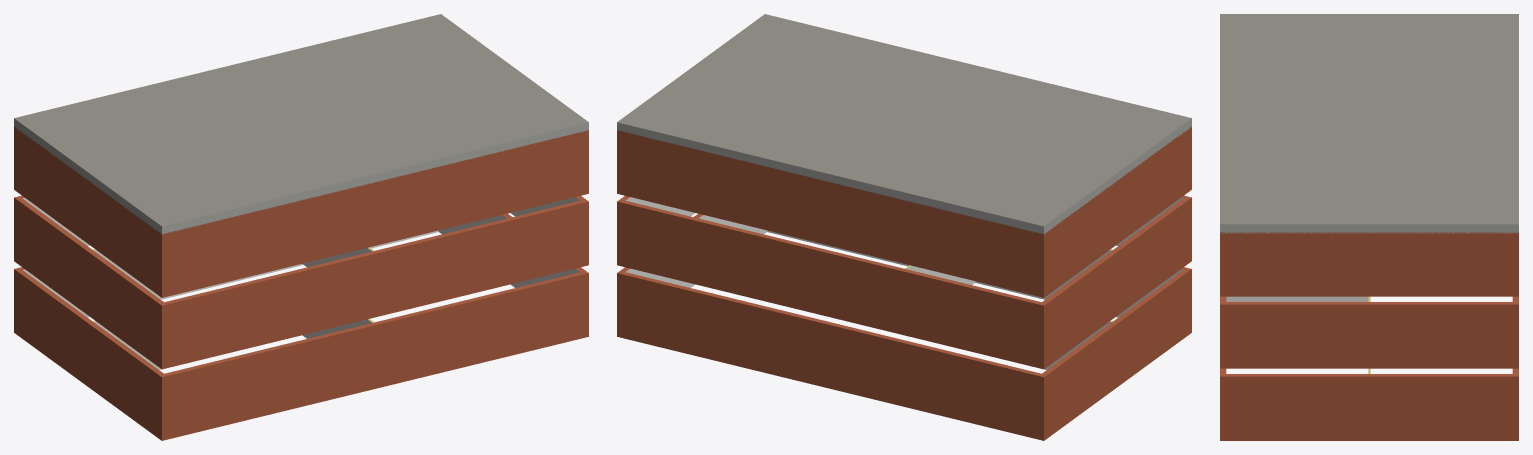
The model's file is Ejemplo_ARQ.dae.
3 renders of one model, left to right at view 1: azimuth 30°, elevation 25°; view 2: azimuth 150°, elevation 25°; view 3: azimuth 270°, elevation 25°, orthographic.
Visible parts, largest first — view 1: 310315, 310014, 310105, 310196, 310028, 310119, 310210, 310021, 310035; view 2: 310315, 310021, 310112, 310203, 310119, 310028, 310210, 310035, 310014; view 3: 310315, 310035, 310126, 310217, 310049, 310105, 310112, 310021, 310014, 310196, 310203.
Boxes of the visible parts, x1,y1,x2,y2 form: 310315: (14, 14, 588, 234); 310014: (159, 271, 588, 440); 310105: (159, 200, 588, 369); 310196: (159, 130, 588, 297); 310028: (14, 270, 167, 440); 310119: (14, 197, 167, 369); 310210: (14, 129, 167, 296); 310021: (14, 230, 438, 333); 310035: (438, 213, 588, 323); 310315: (617, 14, 1191, 234); 310021: (617, 271, 1046, 440); 310112: (617, 200, 1046, 368); 310203: (617, 130, 1046, 297); 310119: (1039, 197, 1191, 369); 310028: (1039, 269, 1191, 440); 310210: (1038, 127, 1191, 297); 310035: (617, 213, 767, 330); 310014: (767, 230, 1191, 322); 310315: (1220, 14, 1518, 233); 310035: (1220, 374, 1518, 440); 310126: (1220, 302, 1518, 368); 310217: (1220, 232, 1518, 296); 310049: (1226, 296, 1368, 301); 310105: (1220, 296, 1226, 368); 310112: (1512, 296, 1518, 368); 310021: (1512, 368, 1518, 440); 310014: (1220, 368, 1226, 440); 310196: (1220, 232, 1226, 296); 310203: (1512, 232, 1518, 296).
Size of the model in its own units: 20 by 12 by 9.6.
